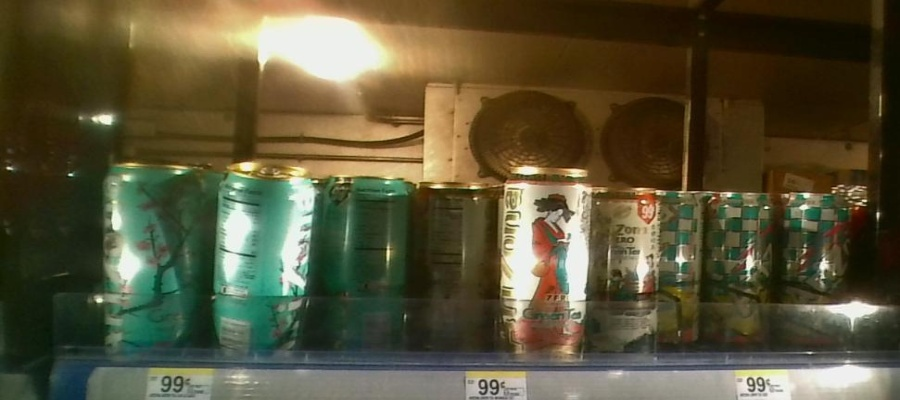bottle: (210, 162, 320, 360), (97, 158, 203, 356), (501, 161, 594, 369), (323, 169, 408, 354), (417, 173, 494, 355), (706, 183, 779, 360), (783, 185, 854, 360), (595, 189, 661, 363), (661, 187, 704, 356)
